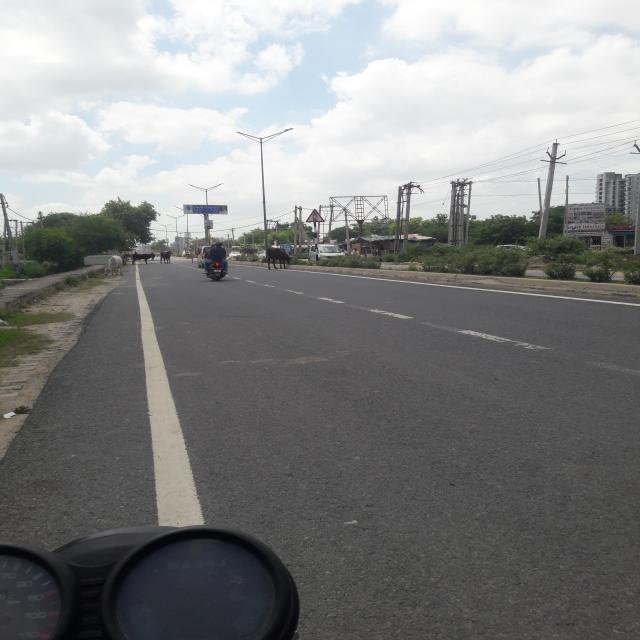GAP_IN_MEDIAN: (305, 209, 325, 222)
